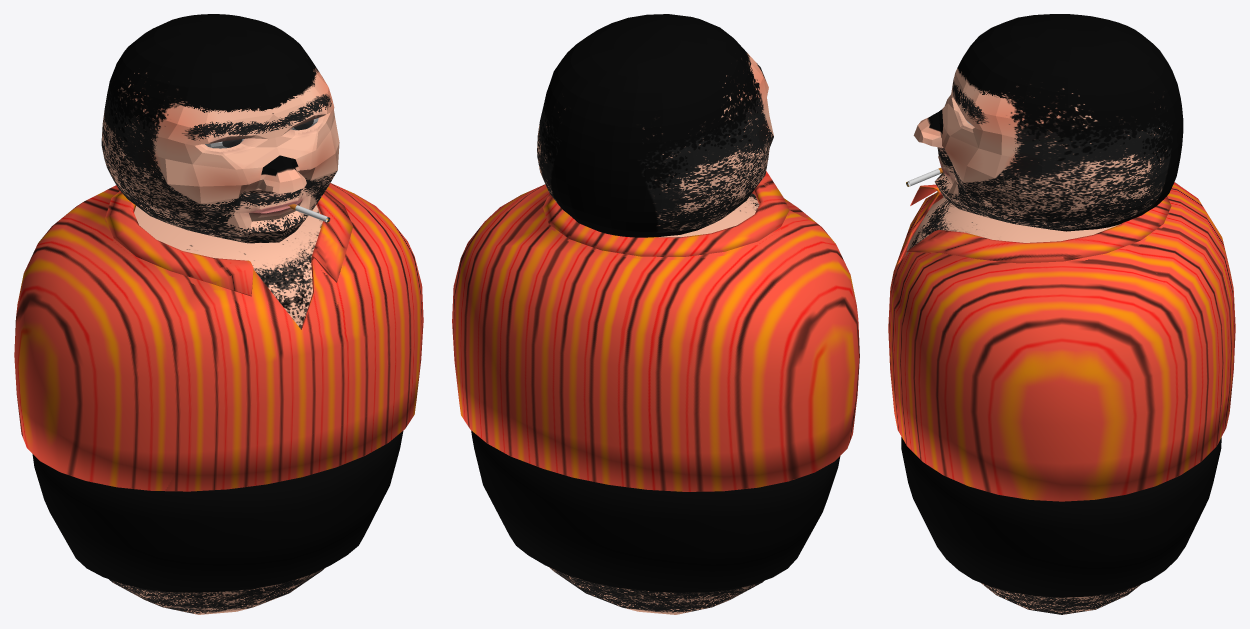
The model's file is recep2.fbx.
3 renders of one model, left to right at view 1: azimuth 30°, elevation 25°; view 2: azimuth 150°, elevation 25°; view 3: azimuth 270°, elevation 25°, orthographic.
Parts seen in each view (by area): view 1: tshirt.001, head.001, pant.001, body.001; view 2: tshirt.001, head.001, pant.001, body.001; view 3: tshirt.001, head.001, pant.001, body.001.
Boxes of the visible parts, x1,y1,x2,y2 form: tshirt.001: [14, 183, 423, 491]; head.001: [101, 14, 339, 243]; pant.001: [32, 431, 403, 592]; body.001: [109, 205, 324, 614]; tshirt.001: [452, 171, 859, 491]; head.001: [537, 14, 773, 237]; pant.001: [471, 430, 840, 592]; body.001: [549, 193, 763, 614]; tshirt.001: [888, 182, 1235, 501]; head.001: [913, 14, 1183, 231]; pant.001: [901, 437, 1221, 597]; body.001: [906, 197, 1141, 614].
Bounding box in the file's own units: 187 × 151 × 275.
